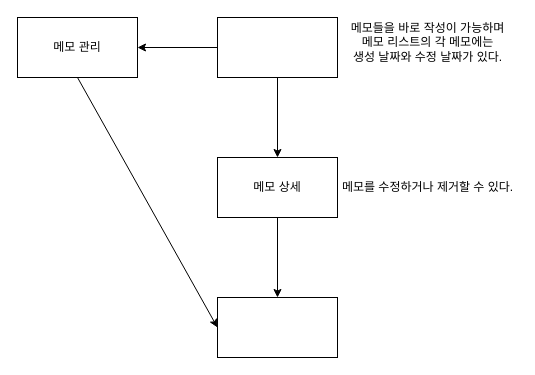
Image size: 535x375. Some labels were removed from this diagram. Each missing label, with the box of its shape:
메모 수정: (216, 296, 338, 358)
메인페이지: (216, 16, 338, 78)
